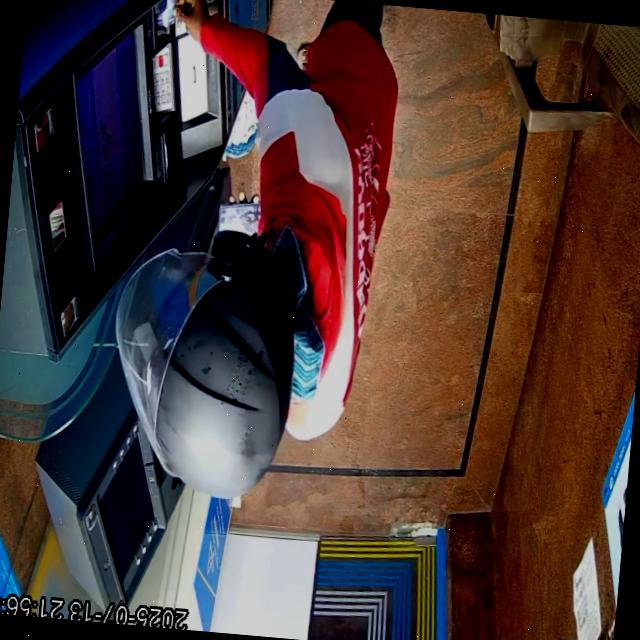helmet: (115, 228, 294, 496)
